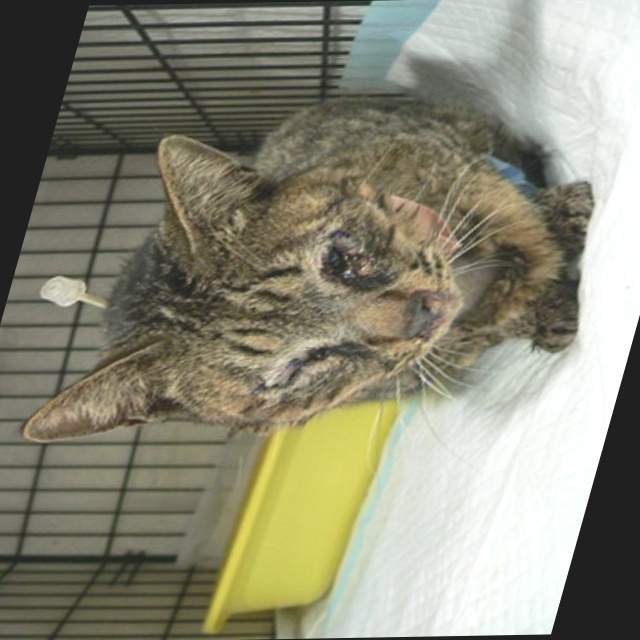eye_infection: (315, 240, 371, 278)
